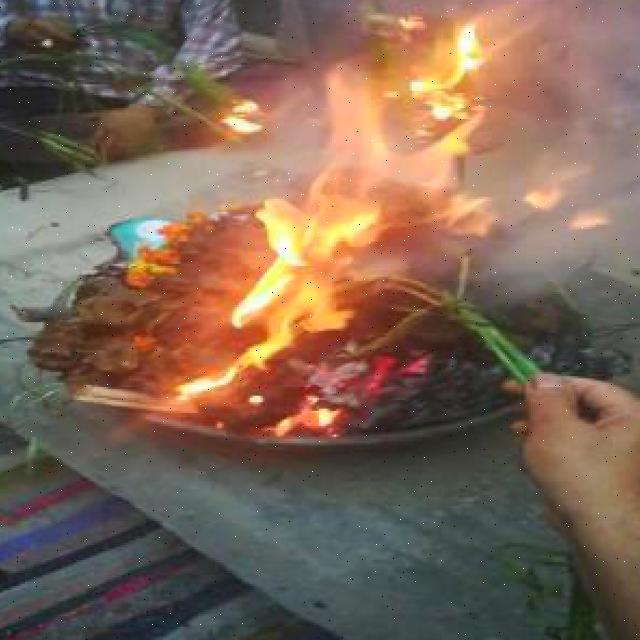fire: (234, 56, 514, 258), (220, 260, 366, 374), (515, 166, 640, 237), (148, 372, 256, 422), (263, 402, 360, 448)
smoke: (513, 235, 640, 320)
